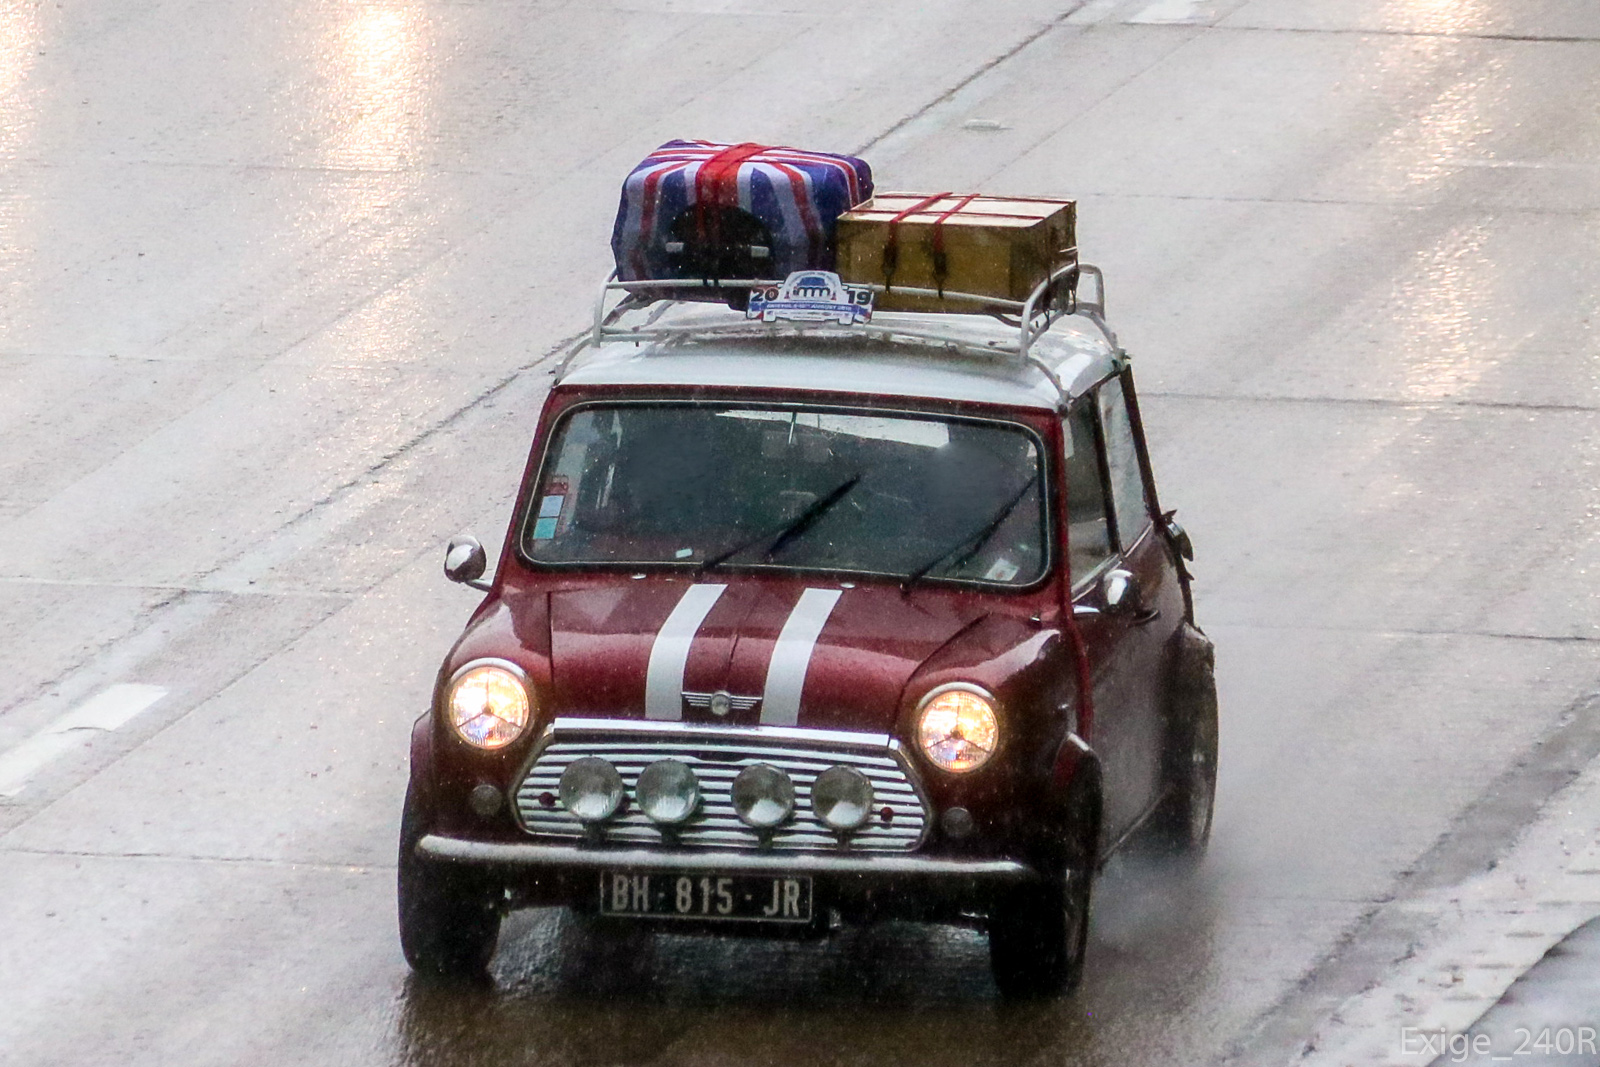licence plate: (594, 863, 817, 928)
